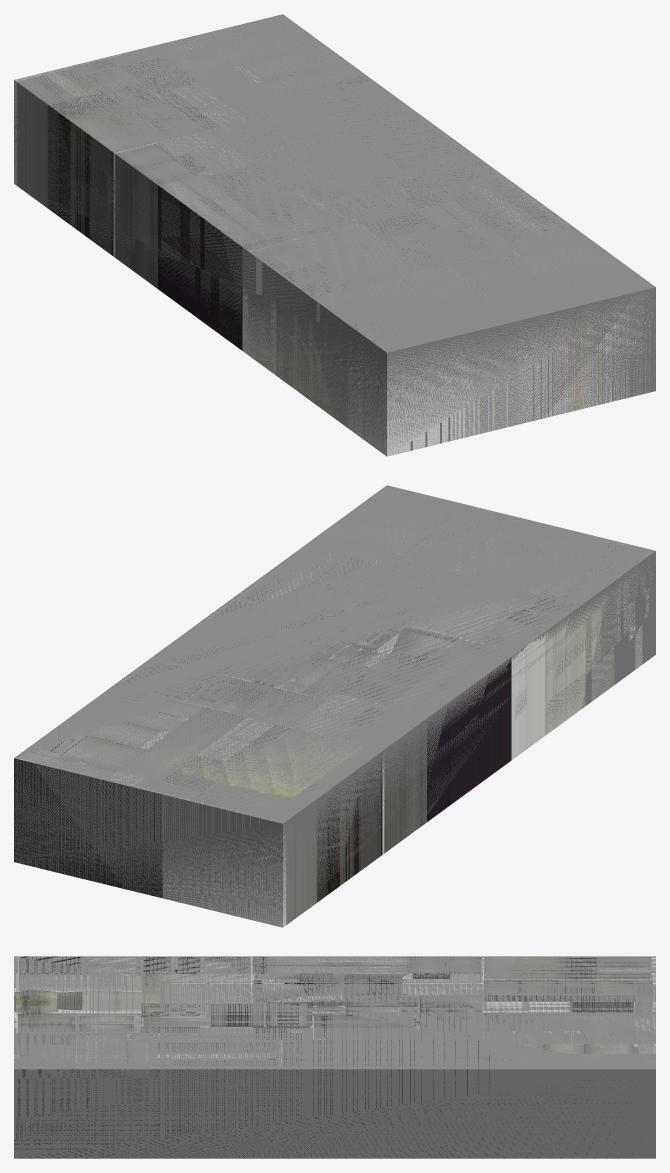
File: stove_professional_vent.FBX
3 renders of one model, top to bottom at view 1: azimuth 30°, elevation 25°; view 2: azimuth 150°, elevation 25°; view 3: azimuth 270°, elevation 25°, orthographic. The views are drawn at different scales.
Parts seen in each view (by area): view 1: bounds, colbox-1; view 2: bounds, colbox-1, stove_professional_vent100; view 3: bounds, colbox-1.
Boxes of the visible parts, <box> form: bounds: <box>14,14,655,454</box>; colbox-1: <box>14,32,654,456</box>; bounds: <box>14,485,655,923</box>; colbox-1: <box>14,503,652,927</box>; stove_professional_vent100: <box>129,733,369,800</box>; bounds: <box>14,956,655,1158</box>; colbox-1: <box>14,956,655,1158</box>.
Size of the model in its own units: 108 by 39.83 by 259.
